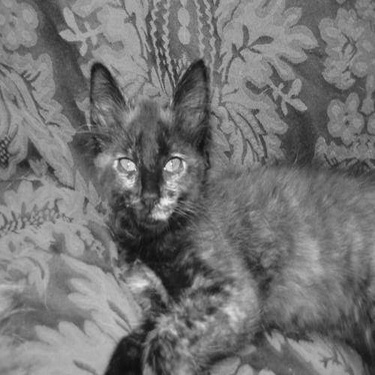cat: (80, 54, 370, 369)
